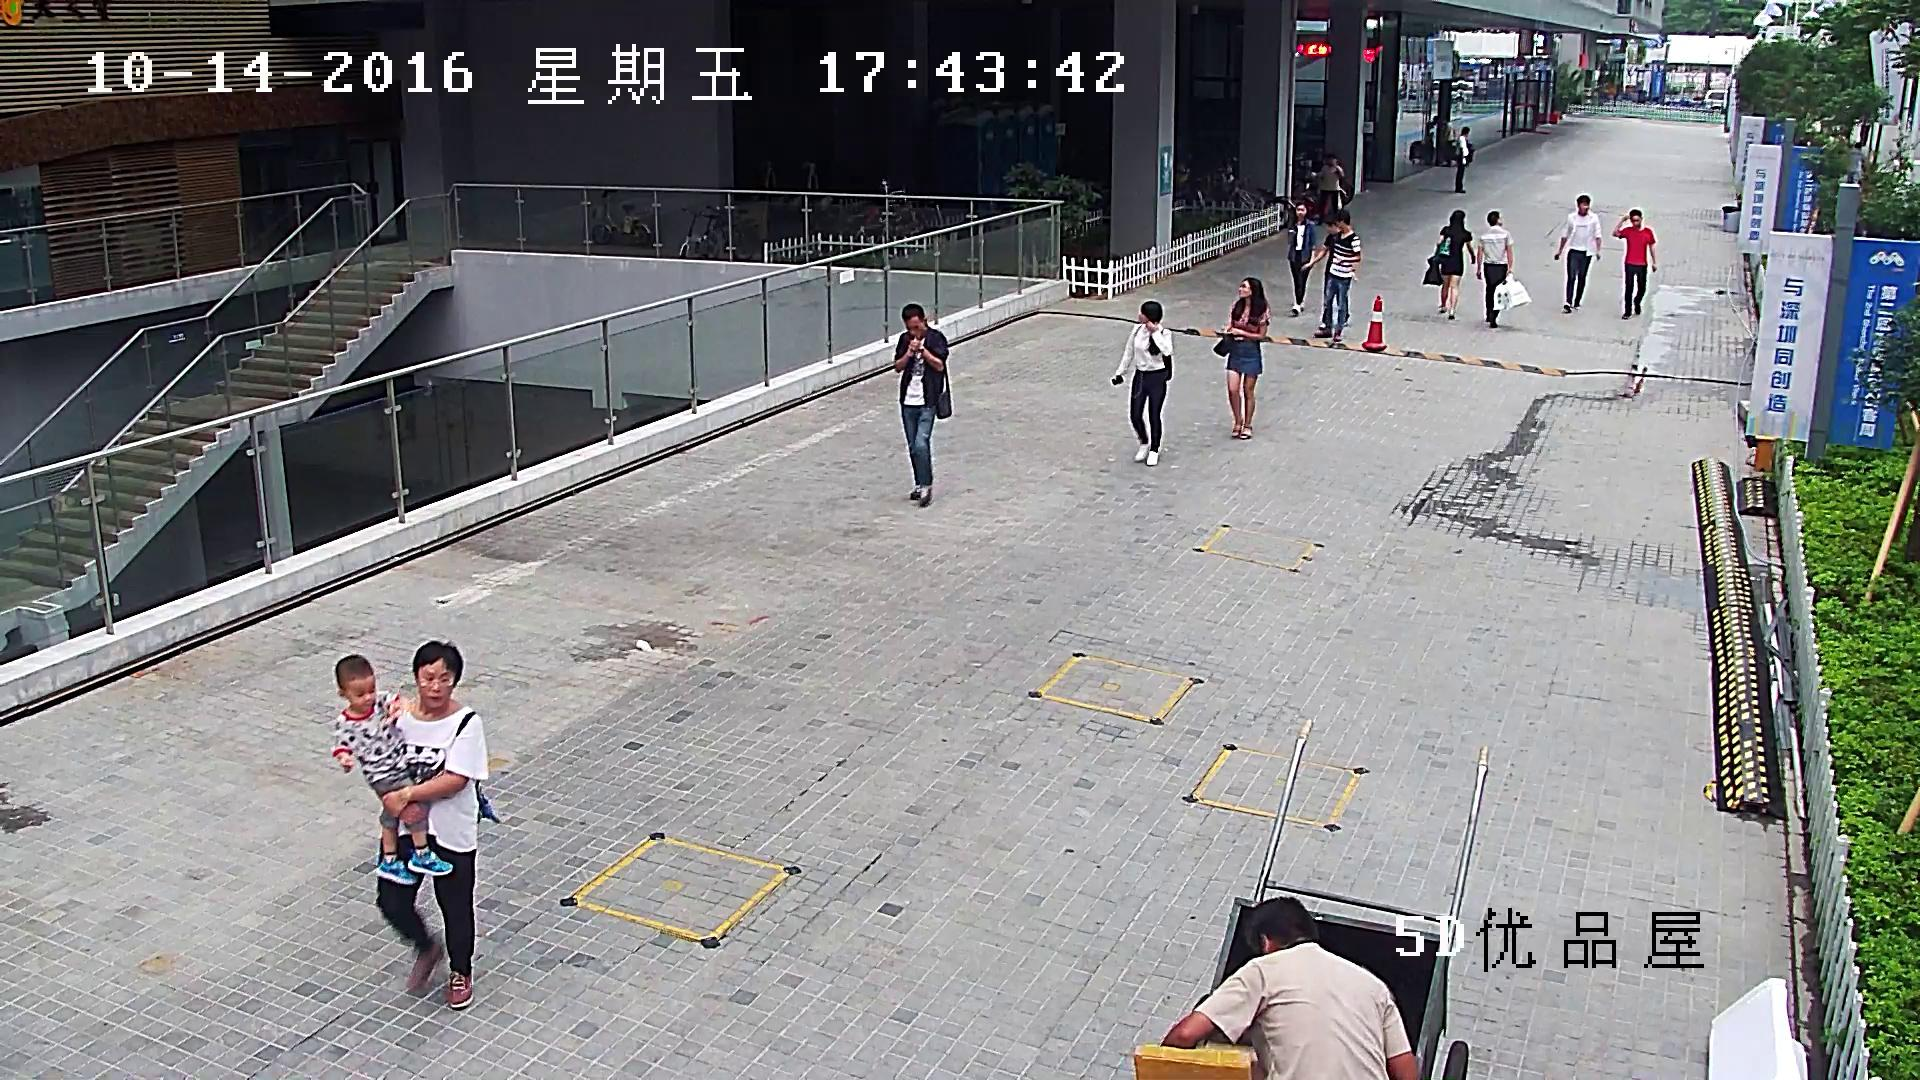person: (1133, 895, 1421, 1080), (1161, 896, 1420, 1080), (375, 640, 501, 1010), (332, 653, 452, 885), (894, 302, 951, 507), (1111, 301, 1172, 465), (1213, 277, 1271, 440), (1476, 210, 1531, 328), (1314, 209, 1361, 341), (1554, 194, 1602, 313), (1423, 209, 1475, 318), (1301, 212, 1348, 329), (1612, 209, 1656, 318), (1474, 210, 1514, 329), (1287, 201, 1315, 315), (1314, 155, 1344, 226), (1455, 126, 1469, 192)
